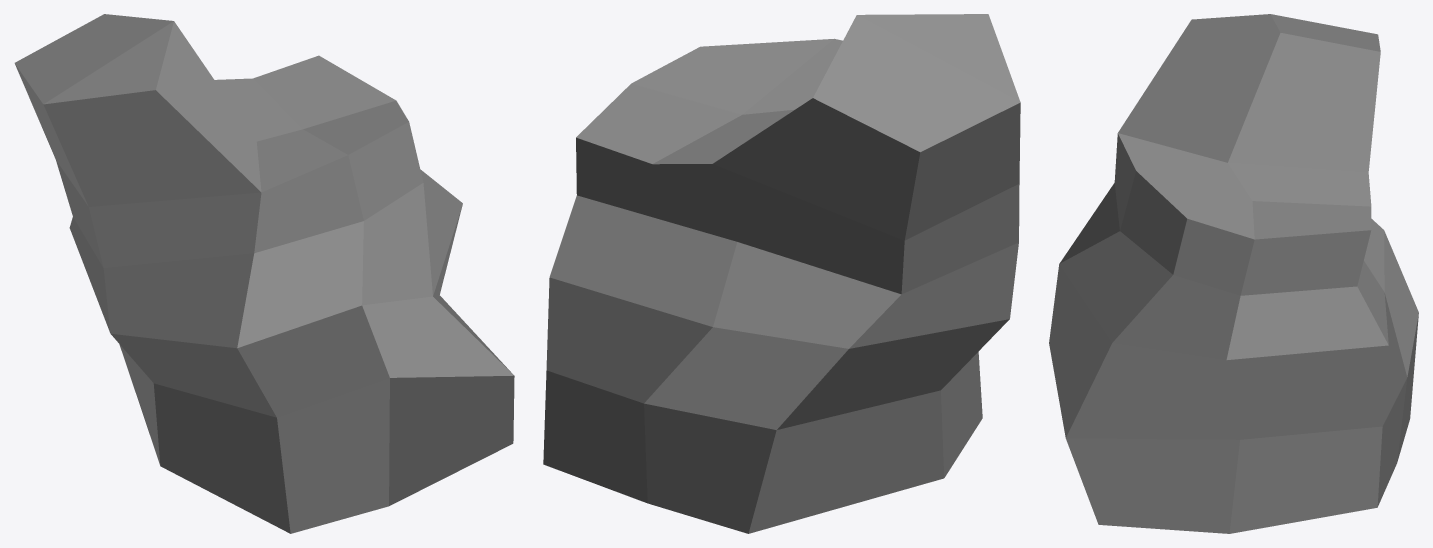
File: roccia4.obj
The picture shows the model from 3 angles, left to right: view 1: azimuth 30°, elevation 25°; view 2: azimuth 150°, elevation 25°; view 3: azimuth 270°, elevation 25°; orthographic projection. The views are drawn at different scales.
Parts seen in each view (by area): view 1: Rock_20; view 2: Rock_20; view 3: Rock_20.
Boxes of the visible parts, left/top/right/bottom form: Rock_20: left=14, top=14, right=514, bottom=533; Rock_20: left=543, top=14, right=1020, bottom=533; Rock_20: left=1049, top=14, right=1418, bottom=533.
Size of the model in its own units: 4.76 by 5.02 by 4.13.
1 material, 1 textured.
